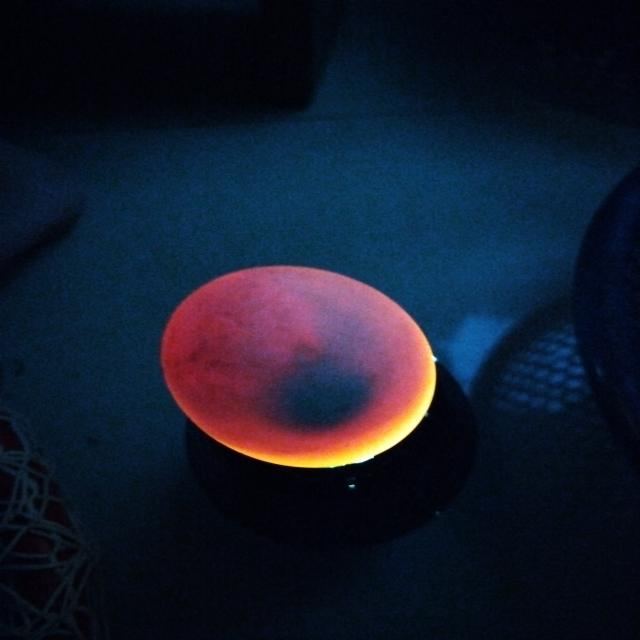Area Infectada: (253, 278, 379, 430)
